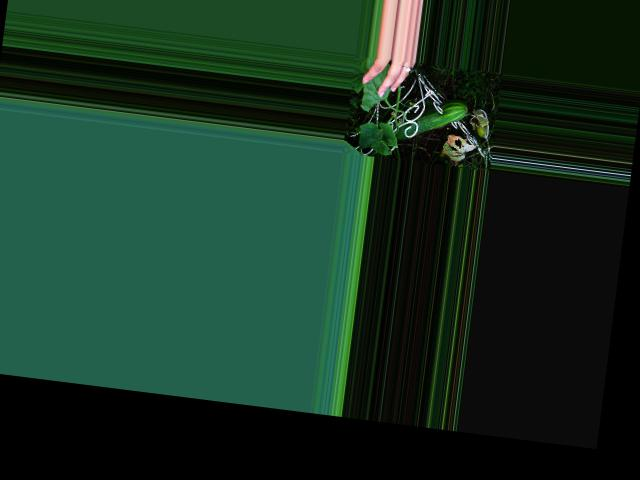cucumber: (393, 92, 468, 147)
